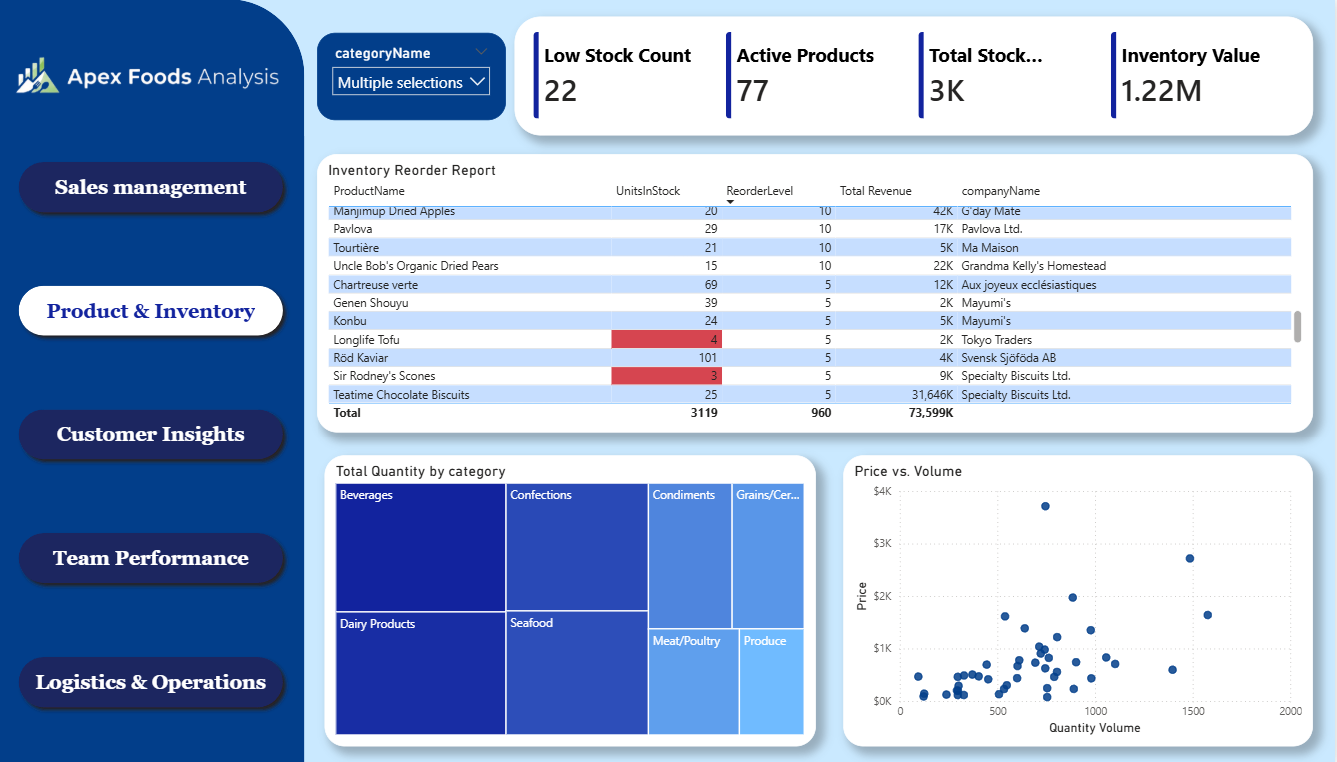

The page's visual inventory and layout, read from the dashboard file:
{"tool":"powerbi","page":{"name":"Product & Inventory","canvas":[1530,875],"ordinal":1},"visuals":[{"type":"slicer","fields":{"Values":["CategoryDim.categoryName"]},"box":[365.7,38.6,215.7,100],"z":0},{"type":"scatterChart","title":"Price vs. Volume","fields":{"Category":["ProductDim.productName"],"X":["Dax_Measures.Total Quantity"],"Y":["Sum(OrderFact.unitPrice)"]},"box":[967.1,521.4,537.1,332.9],"z":1000},{"type":"tableEx","title":"Inventory Reorder Report","fields":{"Values":["ProductDim.productName","Sum(ProductDim.unitsInStock)","Sum(ProductDim.reorderLevel)","Dax_Measures.Total Revenue","SuppliersDim.companyName"]},"box":[365.7,177.1,1138.6,318.6],"z":2000},{"type":"treemap","title":"Total Quantity by category","fields":{"Group":["CategoryDim.categoryName"],"Values":["Dax_Measures.Total Quantity"]},"box":[374.3,521.4,561.4,332.9],"z":3000},{"type":"shape","title":"FlyOut","box":[0,0,351.4,875.7],"z":4000},{"type":"actionButton","title":"Product","box":[15.7,742.9,320,75.7],"z":5000},{"type":"actionButton","title":"Quantity","box":[15.7,601.6,320,75],"z":6000},{"type":"actionButton","title":"Profit","box":[15.7,460.4,320,75],"z":7000},{"type":"actionButton","title":"Sales","box":[15.7,319.1,320,75],"z":8000},{"type":"actionButton","title":"KPIs","box":[15.7,177.1,320,75.7],"z":9000},{"type":"cardVisual","fields":{"Data":["Dax_Measures.Low Stock Count","Dax_Measures.Active Products","Dax_Measures.Total Stock Quantity","Dax_Measures.Inventory Value"]},"box":[591.4,20,912.9,135.7],"z":10000},{"type":"image","box":[16.7,28.3,308.3,116.7],"z":11000}]}

Visuals, with their boxes in screenshot pixels (x1, y1, x2, y2), scaled from the page's 1530x875 canvas onto the 1337x762 screenshot:
slicer - CategoryDim.categoryName: <region>320, 34, 508, 121</region>
"Price vs. Volume" scatterChart: <region>845, 454, 1314, 744</region>
"Inventory Reorder Report" tableEx: <region>320, 154, 1315, 432</region>
"Total Quantity by category" treemap: <region>327, 454, 818, 744</region>
"FlyOut" shape: <region>0, 0, 307, 761</region>
"Product" actionButton: <region>14, 647, 293, 713</region>
"Quantity" actionButton: <region>14, 524, 293, 589</region>
"Profit" actionButton: <region>14, 401, 293, 466</region>
"Sales" actionButton: <region>14, 278, 293, 343</region>
"KPIs" actionButton: <region>14, 154, 293, 220</region>
cardVisual - Dax_Measures.Low Stock Count x Dax_Measures.Active Products: <region>517, 17, 1315, 136</region>
image: <region>15, 25, 284, 126</region>
